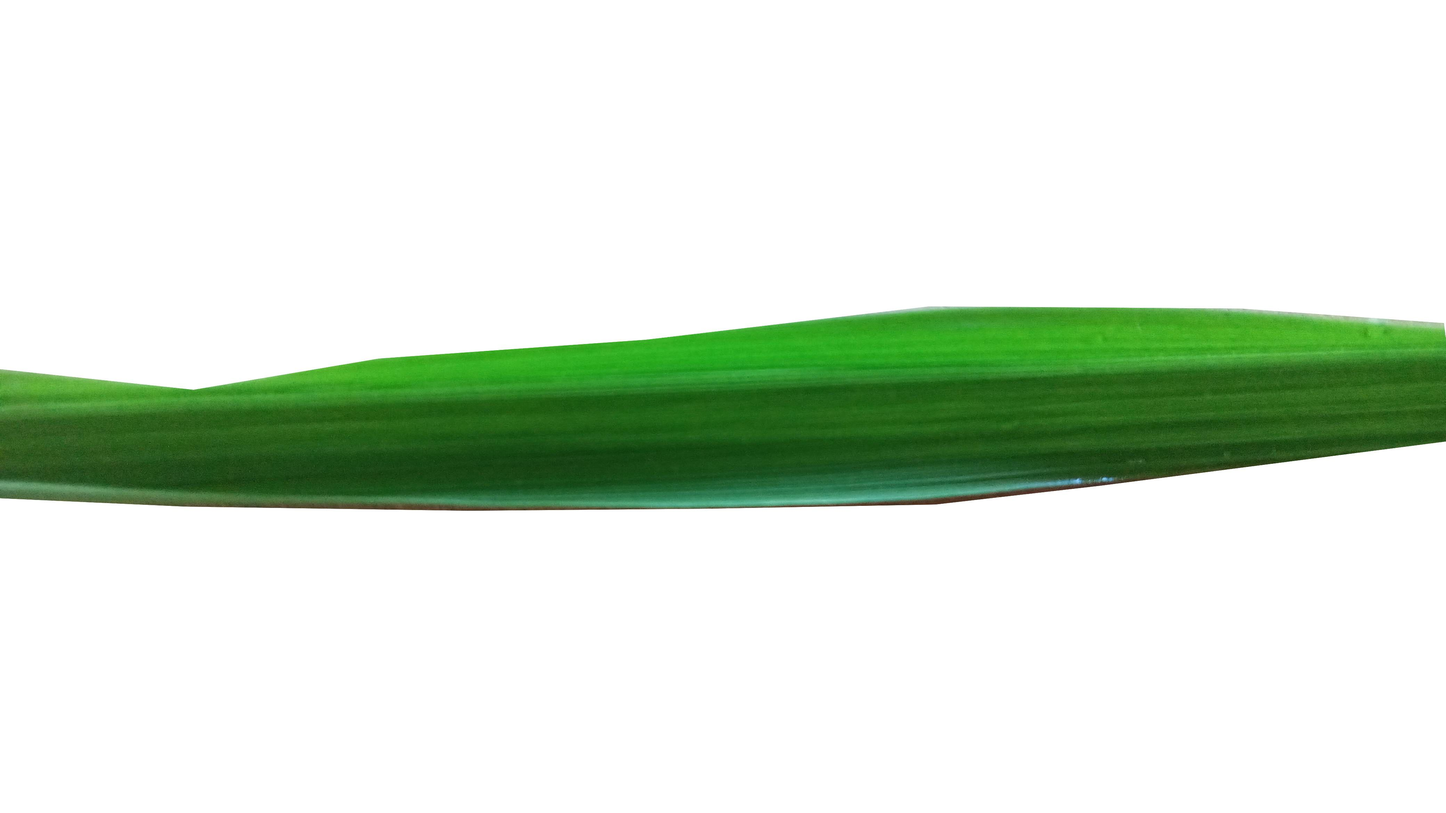Healthy: (0, 306, 1446, 512)
